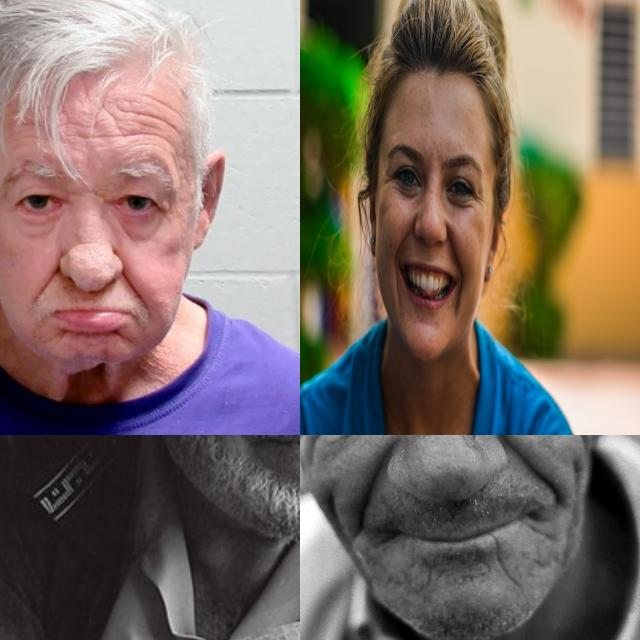chin: (485, 548, 523, 588), (55, 325, 93, 345), (109, 328, 133, 347)
crows_feet: (300, 435, 338, 451), (152, 197, 172, 219), (470, 189, 484, 211), (383, 167, 395, 190)
forehead: (130, 102, 166, 128), (68, 115, 94, 143), (147, 90, 175, 114), (100, 105, 122, 135)
gummy_smile: (504, 435, 564, 497), (352, 452, 384, 522), (114, 268, 150, 306), (30, 264, 62, 296), (393, 229, 413, 255), (446, 230, 460, 265)
sad_smile: (392, 270, 405, 306), (454, 282, 464, 316)
